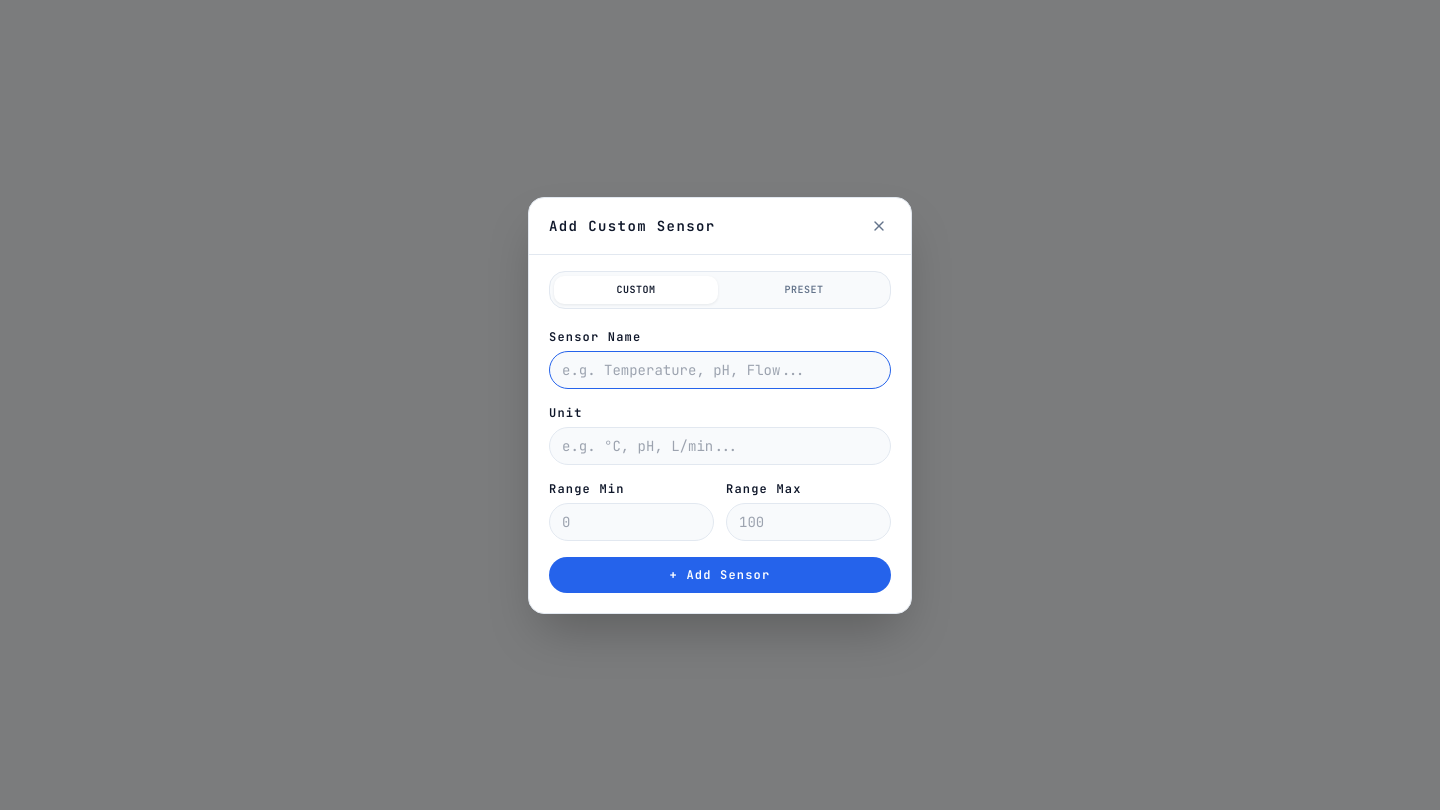
Test: AddSensorModal › shows empty state when all presets added
The image size is (1440, 810).
Step 1. Click the button "PRESET" → (804, 290), box [722,276,886,304]
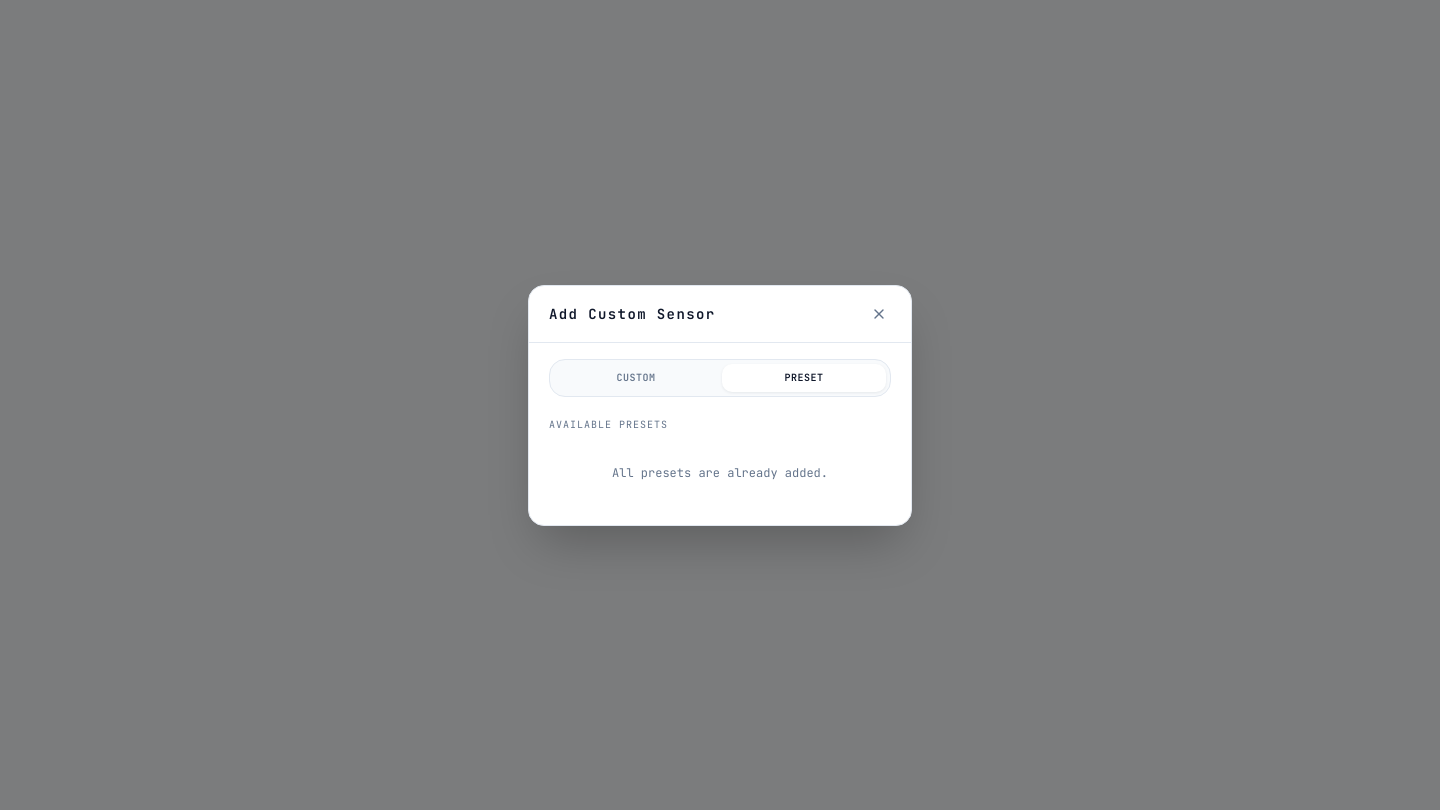
Check: the text "All presets are already added." is shown, box [612,464,828,480]
